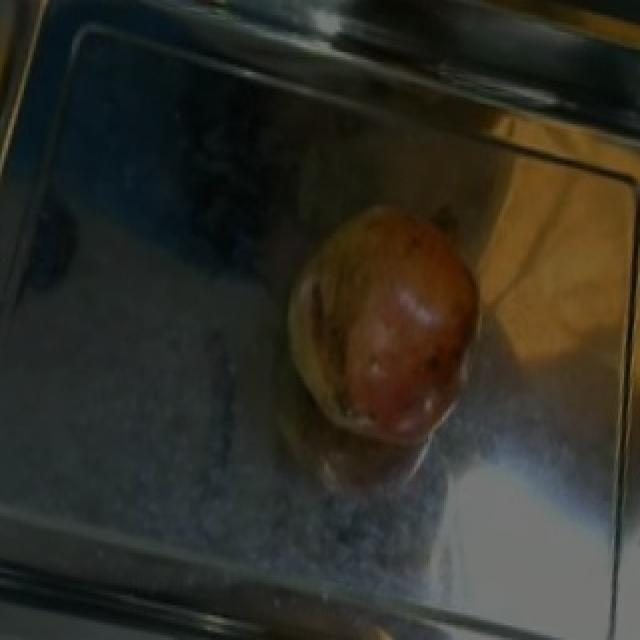fruit: (262, 178, 502, 466)
